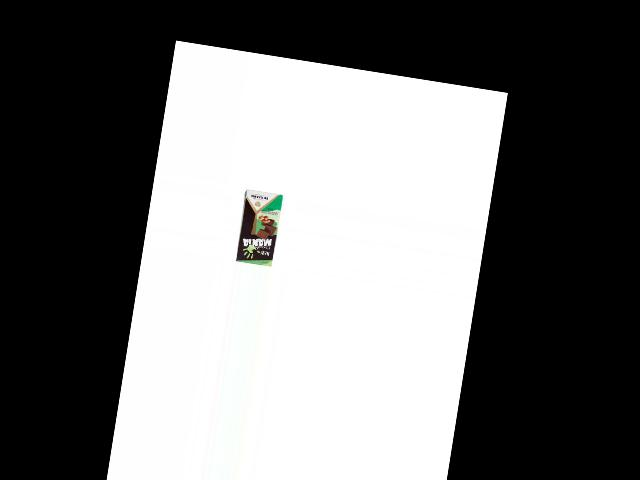chocolate: (233, 187, 285, 268)
